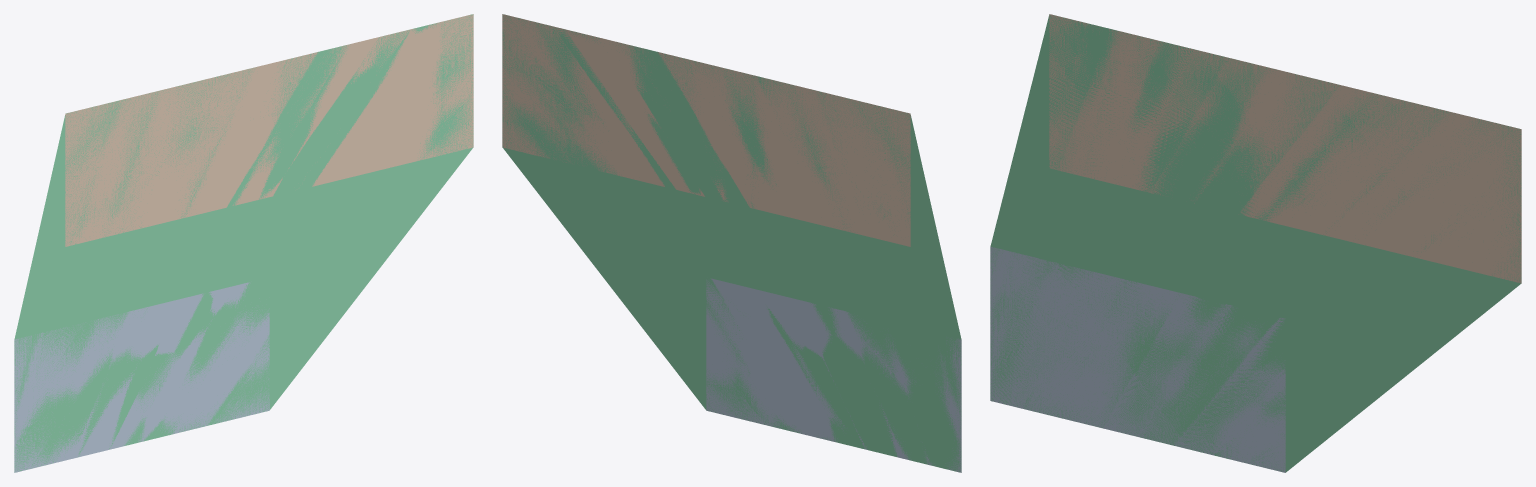
The model's file is scenario5-closed.glb.
3 renders of one model, left to right at view 1: azimuth 30°, elevation 25°; view 2: azimuth 150°, elevation 25°; view 3: azimuth 330°, elevation 25°, orthographic. The views are drawn at different scales.
Parts seen in each view (by area): view 1: scenario5-closed-ring; view 2: scenario5-closed-ring; view 3: scenario5-closed-ring.
Part boxes in pixels (x1,y1,x2,y2): scenario5-closed-ring: (14,14,473,472); scenario5-closed-ring: (502,14,961,472); scenario5-closed-ring: (990,14,1521,472).
Bounding box in the file's own units: 3.6 × 2.6 × 0.
